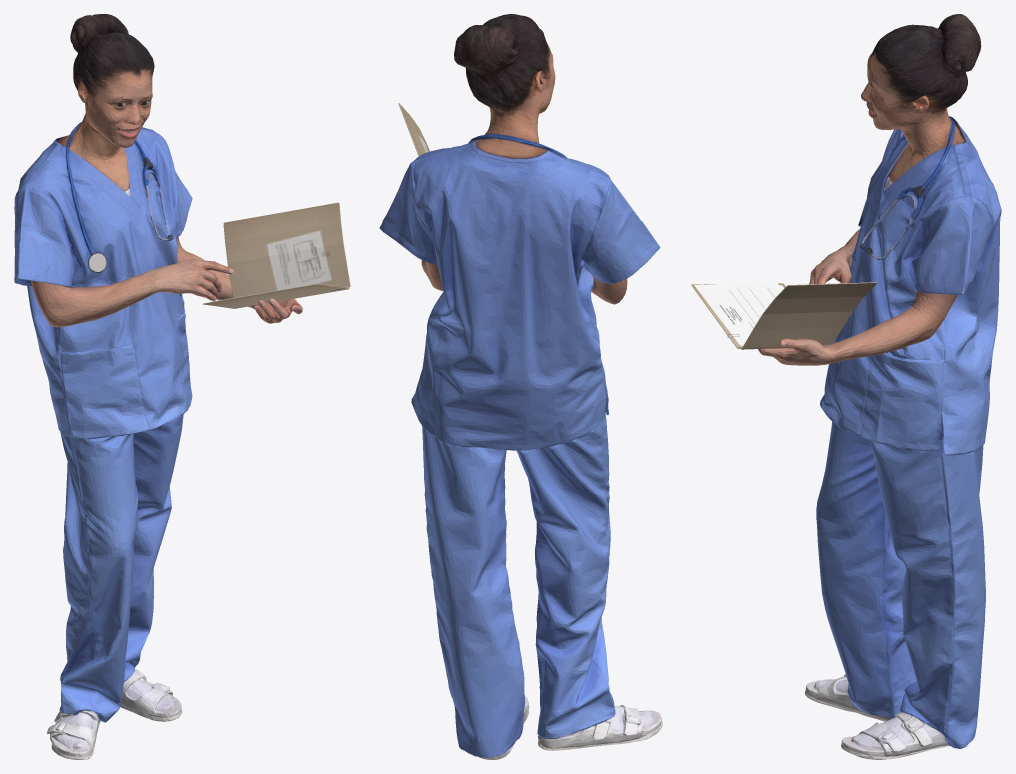
File: 10897_w_Diana_30K.OBJ
3 renders of one model, left to right at view 1: azimuth 30°, elevation 25°; view 2: azimuth 150°, elevation 25°; view 3: azimuth 270°, elevation 25°, orthographic. The views are drawn at different scales.
Visible parts, largest first — view 1: 10897_w_Diana_30k; view 2: 10897_w_Diana_30k; view 3: 10897_w_Diana_30k.
Part boxes in pixels (x1=…): 10897_w_Diana_30k: x1=14, y1=14, x2=350, y2=759; 10897_w_Diana_30k: x1=379, y1=14, x2=662, y2=759; 10897_w_Diana_30k: x1=691, y1=14, x2=1001, y2=759.
Size of the model in its own units: 74.08 by 169 by 66.35.
Materials: 1 (1 with a texture image).
